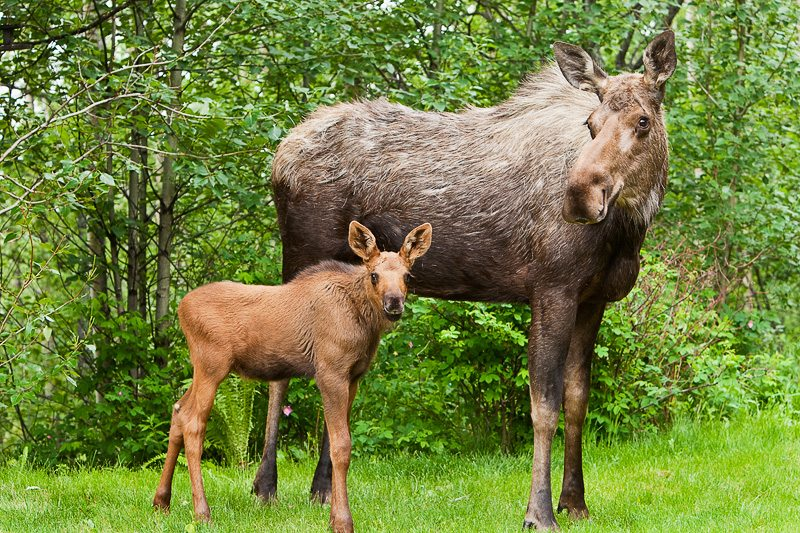moose: (266, 32, 683, 523), (151, 212, 433, 533)
